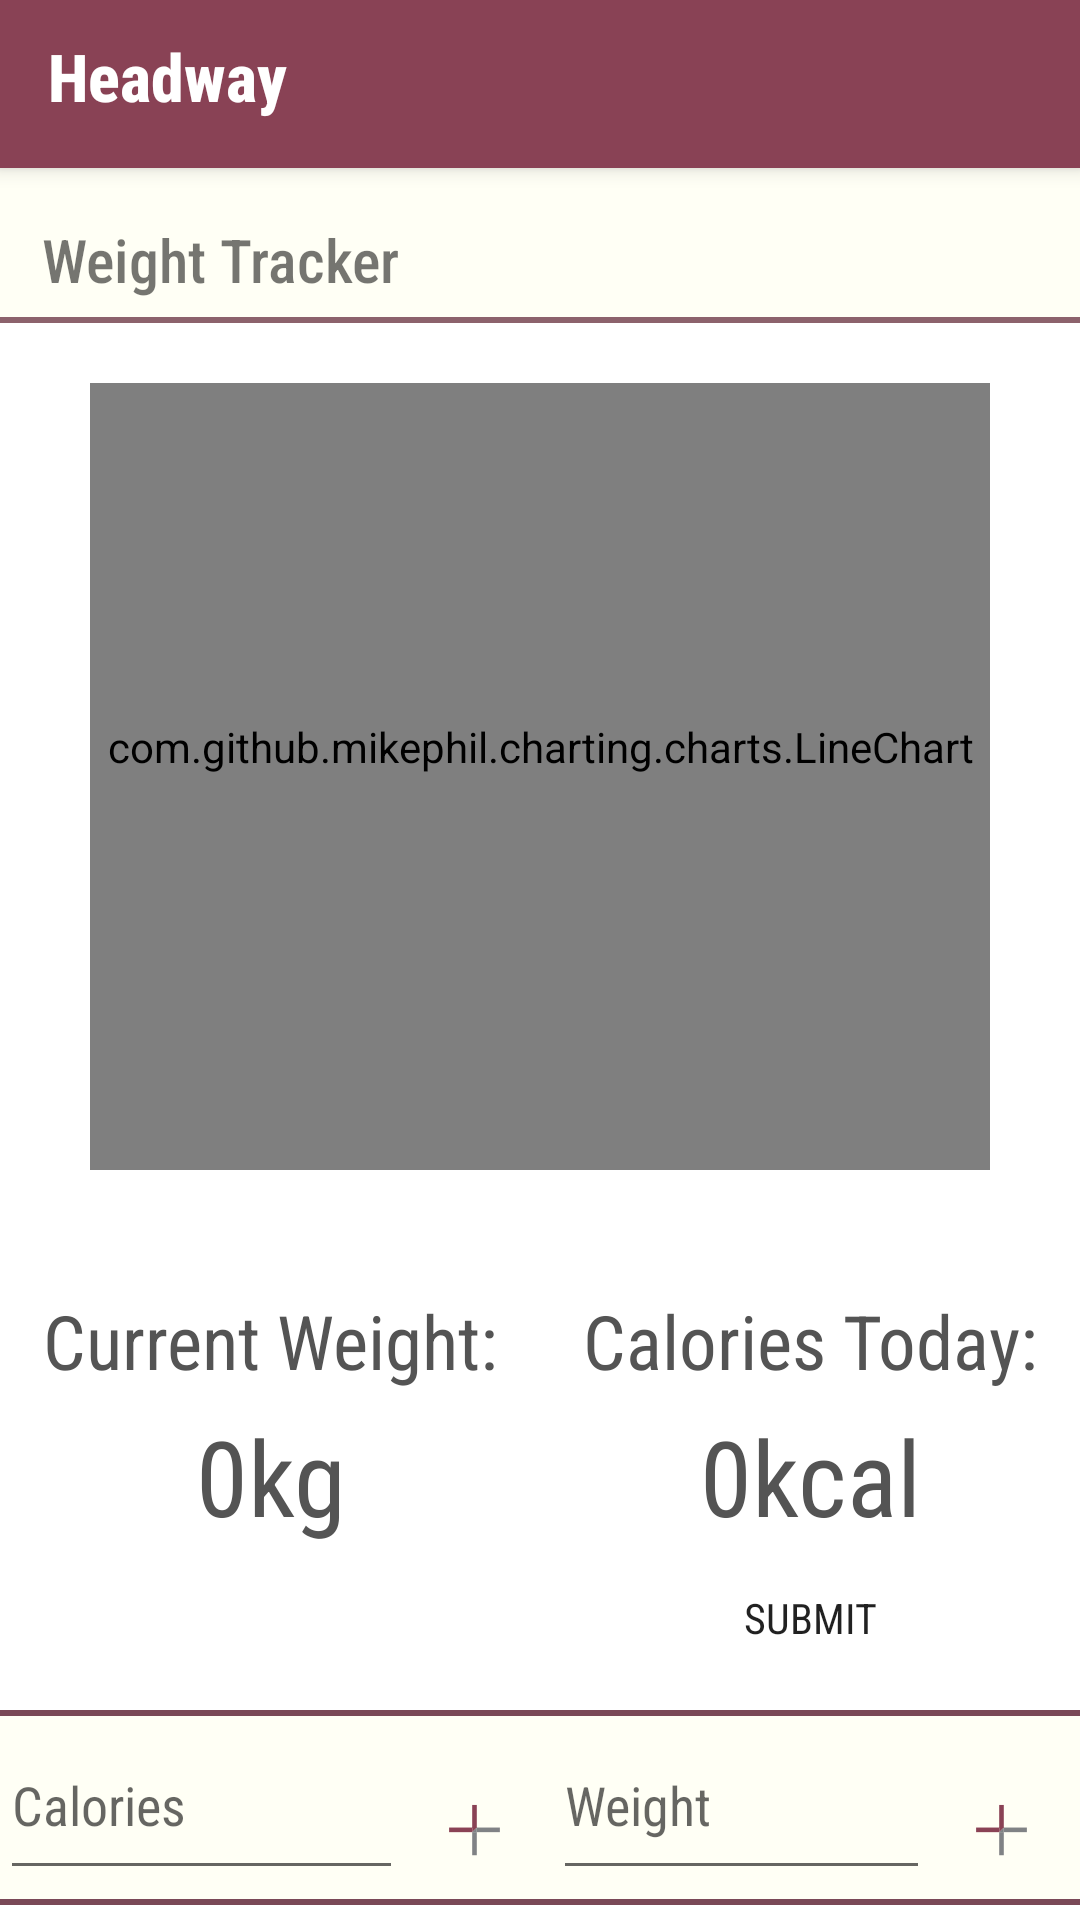

Screen size 1080w x 1920h. Icon name, then its box in pixels as box(x1, y1, x2, y2):
add noback: box(449, 1805, 500, 1856), box(976, 1805, 1027, 1856)
